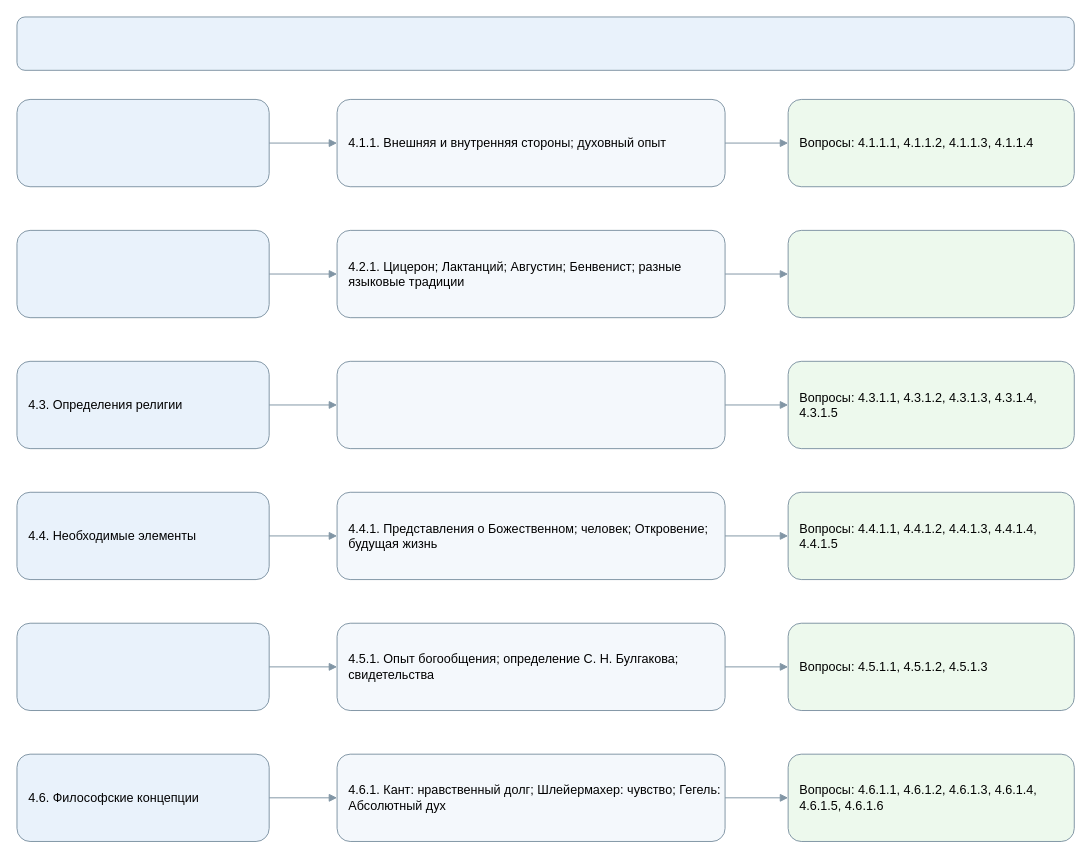
The diagram is 1091 pixels wide and 858 high, and some of its shapes have lost their labels. Each missing label, with the centre of its shape:
"4.1. Понятие о религии" goes at point 142,142.
"4.2. Этимология religio" goes at point 142,273.
"4.3.1. Вероучительные; философские; генетические; семантические; функциональные" goes at point 530,404.
"4.5. Сущность религии" goes at point 142,666.
"Вопросы: 4.2.1.1, 4.2.1.2, 4.2.1.3, 4.2.1.4, 4.2.1.5, 4.2.1.6, 4.2.1.7" goes at point 930,273.
"Лекция 4. Понятие о религии — смысловая карта" goes at point 545,43.
